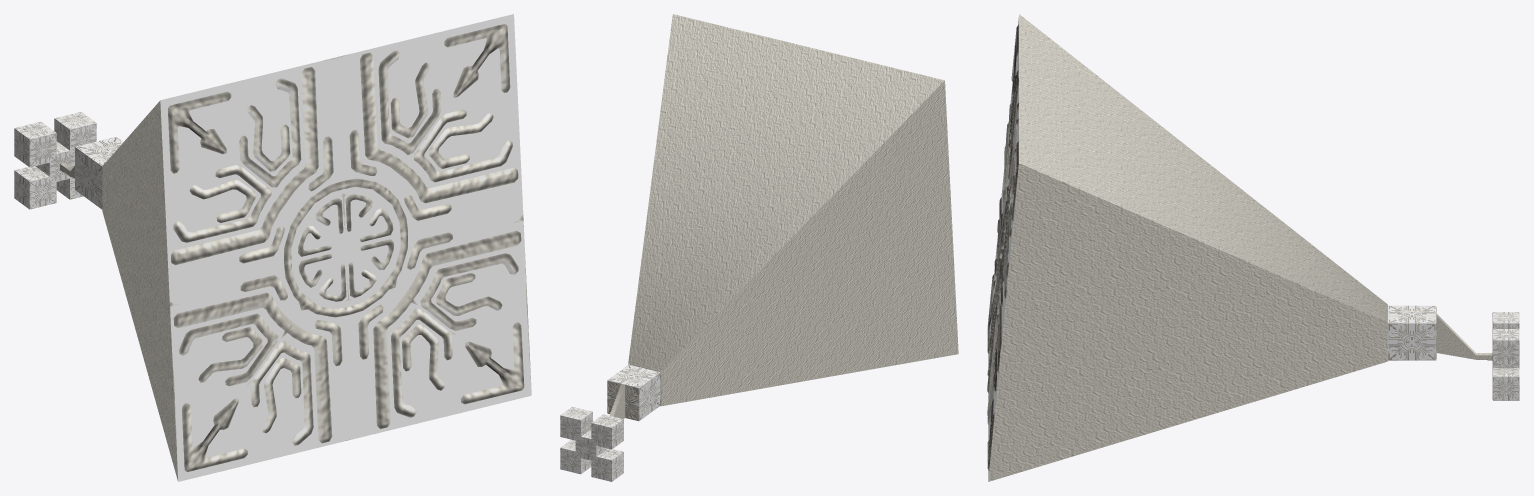
The model's file is f_ground 1.fbx.
3 renders of one model, left to right at view 1: azimuth 30°, elevation 25°; view 2: azimuth 150°, elevation 25°; view 3: azimuth 270°, elevation 25°, orthographic. The views are drawn at different scales.
Parts seen in each view (by area): view 1: f_groundaura, f_grounddetail; view 2: f_groundaura, f_grounddetail; view 3: f_groundaura, f_grounddetail.
Boxes of the visible parts, <box> form: f_groundaura: <box>14,14,531,481</box>; f_grounddetail: <box>14,24,531,481</box>; f_groundaura: <box>560,14,958,481</box>; f_grounddetail: <box>560,365,660,481</box>; f_groundaura: <box>988,14,1519,481</box>; f_grounddetail: <box>987,24,1519,470</box>.
Bounding box in the file's own units: 2636 × 2626 × 3975.
3 materials, 3 textured.
